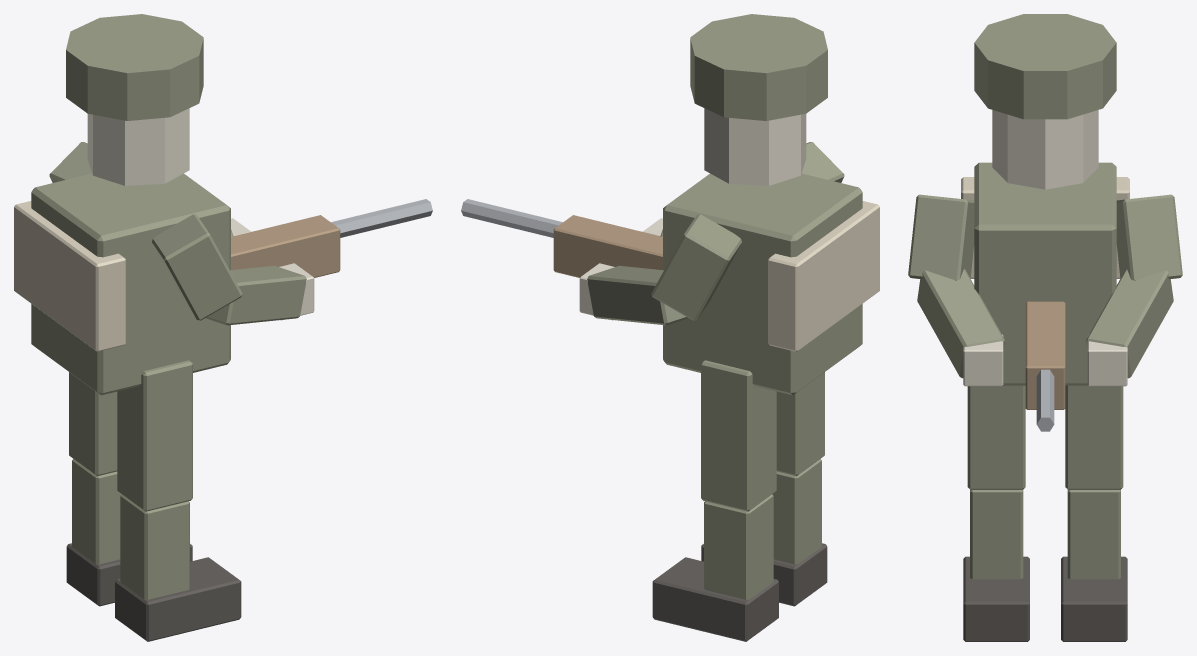
File: infantry_idle.glb
3 renders of one model, left to right at view 1: azimuth 30°, elevation 25°; view 2: azimuth 150°, elevation 25°; view 3: azimuth 270°, elevation 25°, orthographic.
Parts seen in each view (by area): view 1: Jacket, Helmet, Webbing, Upper leg, Face, Boot, Lower leg, Upper sleeve, Rifle stock, Lower leg.001, Upper leg.001, Lower sleeve (+4 smaller); view 2: Jacket, Helmet, Webbing, Upper leg.001, Face, Boot.001, Lower leg.001, Upper sleeve.001, Rifle stock, Lower leg, Upper leg, Lower sleeve.001 (+4 smaller); view 3: Jacket, Helmet, Face, Upper leg, Upper leg.001, Upper sleeve, Upper sleeve.001, Lower leg, Lower leg.001, Lower sleeve, Lower sleeve.001, Boot (+6 smaller).
Part boxes in pixels (bbox=[...]): Jacket: bbox=[31, 173, 230, 395]; Helmet: bbox=[66, 14, 203, 120]; Webbing: bbox=[14, 201, 125, 351]; Upper leg: bbox=[117, 360, 192, 511]; Face: bbox=[87, 108, 189, 185]; Boot: bbox=[115, 557, 241, 641]; Lower leg: bbox=[120, 494, 189, 599]; Upper sleeve: bbox=[152, 214, 242, 320]; Rifle stock: bbox=[231, 215, 340, 277]; Lower leg.001: bbox=[72, 459, 121, 564]; Upper leg.001: bbox=[69, 372, 117, 476]; Lower sleeve: bbox=[205, 265, 306, 325]; Jacket: bbox=[663, 173, 862, 395]; Helmet: bbox=[690, 14, 827, 120]; Webbing: bbox=[768, 201, 879, 351]; Upper leg.001: bbox=[701, 360, 776, 511]; Face: bbox=[704, 108, 806, 185]; Boot.001: bbox=[652, 557, 778, 641]; Lower leg.001: bbox=[704, 494, 773, 599]; Upper sleeve.001: bbox=[651, 214, 741, 320]; Rifle stock: bbox=[553, 215, 662, 277]; Lower leg: bbox=[772, 459, 821, 564]; Upper leg: bbox=[776, 372, 824, 476]; Lower sleeve.001: bbox=[587, 265, 688, 325]; Jacket: bbox=[974, 162, 1116, 385]; Helmet: bbox=[974, 14, 1116, 119]; Face: bbox=[992, 110, 1098, 189]; Upper leg: bbox=[967, 385, 1025, 489]; Upper leg.001: bbox=[1065, 385, 1123, 489]; Upper sleeve: bbox=[908, 194, 974, 280]; Upper sleeve.001: bbox=[1116, 194, 1182, 280]; Lower leg: bbox=[970, 490, 1023, 579]; Lower leg.001: bbox=[1067, 490, 1120, 579]; Lower sleeve: bbox=[917, 269, 1004, 378]; Lower sleeve.001: bbox=[1086, 269, 1173, 378]; Boot: bbox=[963, 556, 1029, 641].
Size of the model in its own units: 0.098 by 0.141 by 0.0619.
